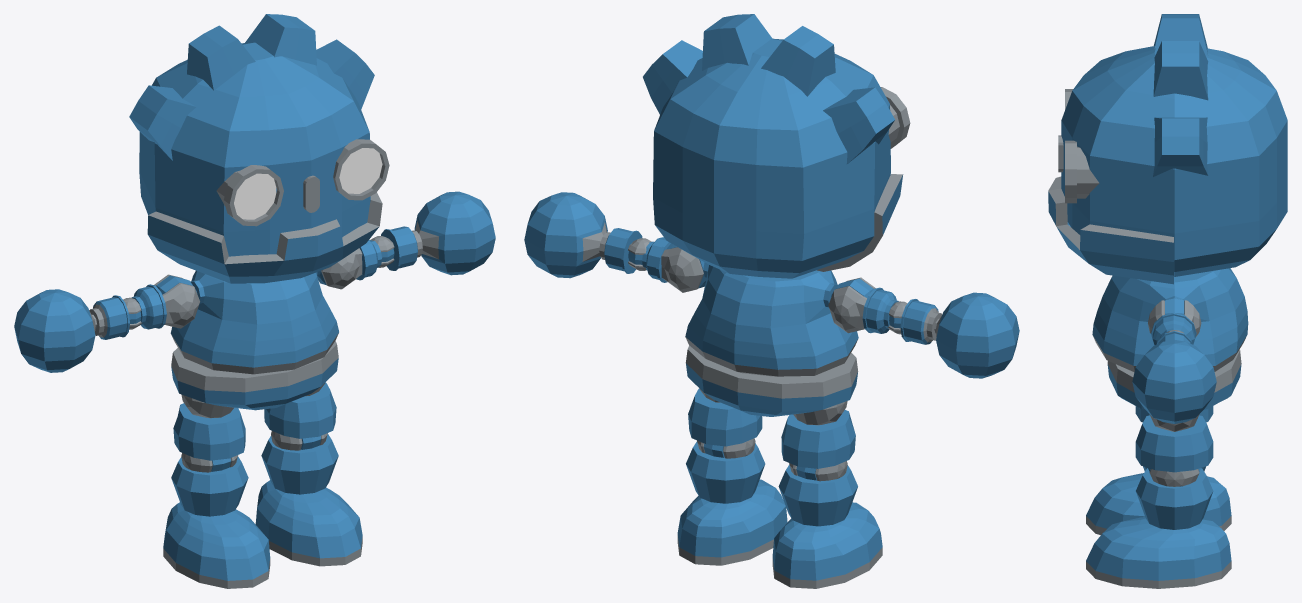
The model's file is 3DGodotRobot.fbx.
The picture shows the model from 3 angles, left to right: view 1: azimuth 30°, elevation 25°; view 2: azimuth 150°, elevation 25°; view 3: azimuth 270°, elevation 25°; orthographic projection. The views are drawn at different scales.
Visible parts, largest first — view 1: Llimbs and head, Face, Chest, Bottom; view 2: Llimbs and head, Chest, Bottom, Face; view 3: Llimbs and head, Chest, Face, Bottom.
Part boxes in pixels (x1,y1,x2,y2): Llimbs and head: [14, 14, 495, 588]; Face: [147, 139, 389, 283]; Chest: [170, 270, 338, 374]; Bottom: [171, 341, 338, 410]; Llimbs and head: [524, 14, 1019, 588]; Chest: [685, 262, 858, 376]; Bottom: [685, 345, 858, 416]; Face: [817, 87, 910, 271]; Llimbs and head: [1061, 14, 1287, 588]; Chest: [1092, 268, 1248, 372]; Face: [1048, 89, 1173, 284]; Bottom: [1107, 349, 1241, 409].
Bounding box in the file's own units: 0.9666 × 1.01 × 0.4225.
Materials: 1 (1 with a texture image).
